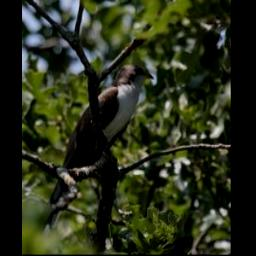Cuckoo: (36, 63, 156, 232)
